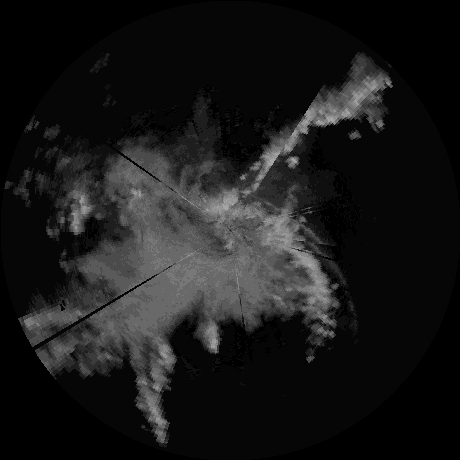frontgust: (305, 239, 351, 292), (254, 194, 283, 213)
